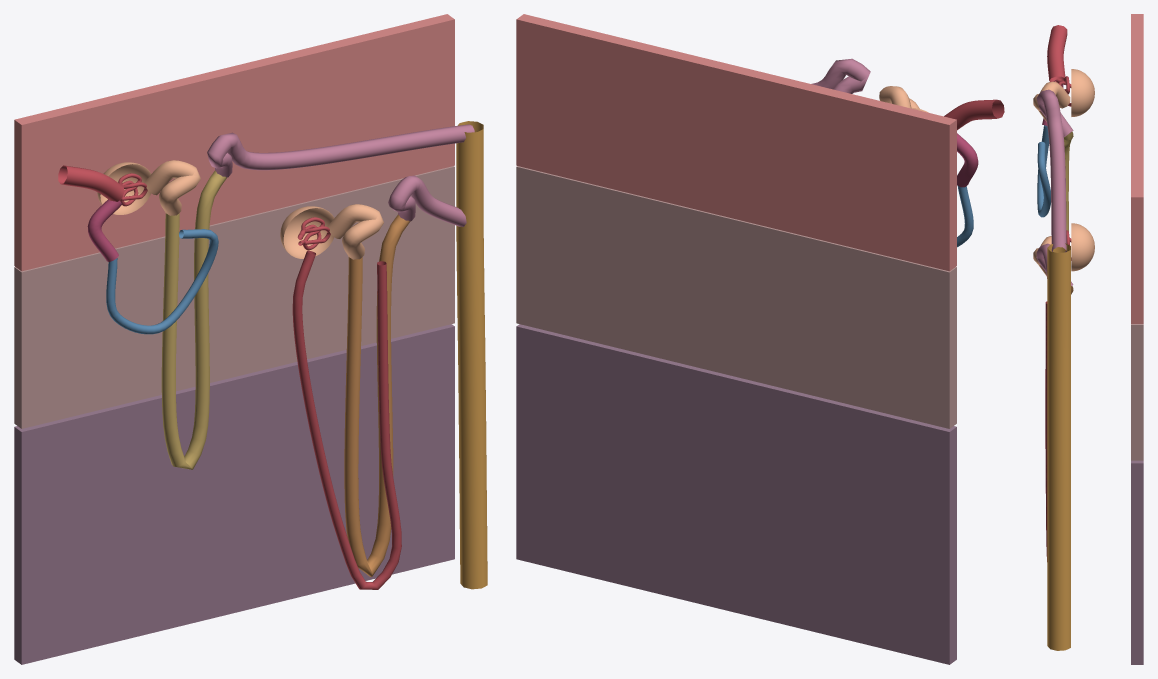
File: nephron-pair.glb
3 renders of one model, left to right at view 1: azimuth 30°, elevation 25°; view 2: azimuth 150°, elevation 25°; view 3: azimuth 270°, elevation 25°, orthographic. The views are drawn at different scales.
Visible parts, largest first — view 1: inner_medulla, cortex, outer_medulla, shared_collecting_duct, juxtamedullary_loop, cortical_loop, vasa_recta, cortical_distal_tubule, peritubular_capillaries, juxtamedullary_distal_tubule, juxtamedullary_proximal_tubule, cortical_proximal_tubule (+4 smaller); view 2: inner_medulla, outer_medulla, cortex, cortical_distal_tubule, afferent_arteriole, efferent_arteriole; view 3: shared_collecting_duct, cortex, cortical_distal_tubule, inner_medulla, outer_medulla, peritubular_capillaries, afferent_arteriole, juxtamedullary_glomerular_capsule, cortical_glomerular_capsule, vasa_recta, cortical_proximal_tubule, cortical_loop (+1 smaller).
Boxes of the visible parts, <box> form: inner_medulla: <box>14,324,454,664</box>; cortex: <box>14,14,454,271</box>; outer_medulla: <box>14,166,454,428</box>; shared_collecting_duct: <box>456,121,487,589</box>; juxtamedullary_loop: <box>344,214,410,576</box>; cortical_loop: <box>161,170,226,469</box>; vasa_recta: <box>292,250,401,589</box>; cortical_distal_tubule: <box>207,124,474,177</box>; peritubular_capillaries: <box>106,229,218,334</box>; juxtamedullary_distal_tubule: <box>388,175,466,226</box>; juxtamedullary_proximal_tubule: <box>327,204,383,259</box>; cortical_proximal_tubule: <box>144,160,200,215</box>; inner_medulla: <box>516,324,956,664</box>; outer_medulla: <box>516,166,956,428</box>; cortex: <box>516,14,956,271</box>; cortical_distal_tubule: <box>811,58,870,93</box>; afferent_arteriole: <box>944,99,1004,130</box>; efferent_arteriole: <box>957,133,978,187</box>; shared_collecting_duct: <box>1047,243,1070,650</box>; cortex: <box>1131,14,1143,323</box>; cortical_distal_tubule: <box>1036,89,1073,252</box>; inner_medulla: <box>1131,460,1143,664</box>; outer_medulla: <box>1131,324,1143,460</box>; peritubular_capillaries: <box>1037,125,1050,217</box>; afferent_arteriole: <box>1047,25,1067,83</box>; juxtamedullary_glomerular_capsule: <box>1071,223,1094,271</box>; cortical_glomerular_capsule: <box>1071,69,1094,116</box>; vasa_recta: <box>1045,301,1047,561</box>; cortical_proximal_tubule: <box>1033,81,1070,121</box>; cortical_loop: <box>1064,131,1073,231</box>.
Bounding box in the file's own units: 2.22 × 2.62 × 0.5615.
